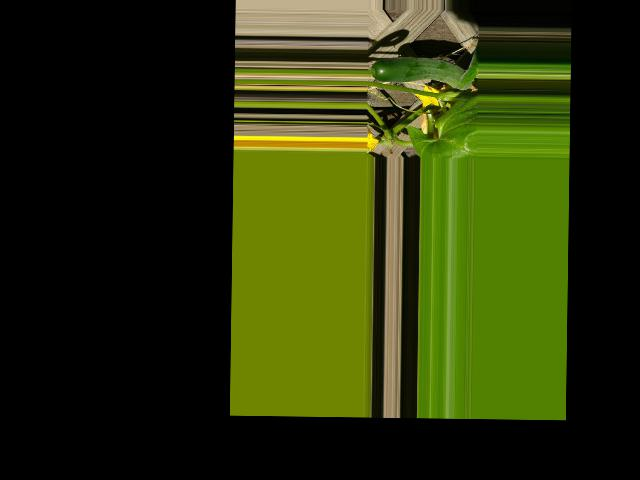cucumber: (372, 55, 478, 90)
